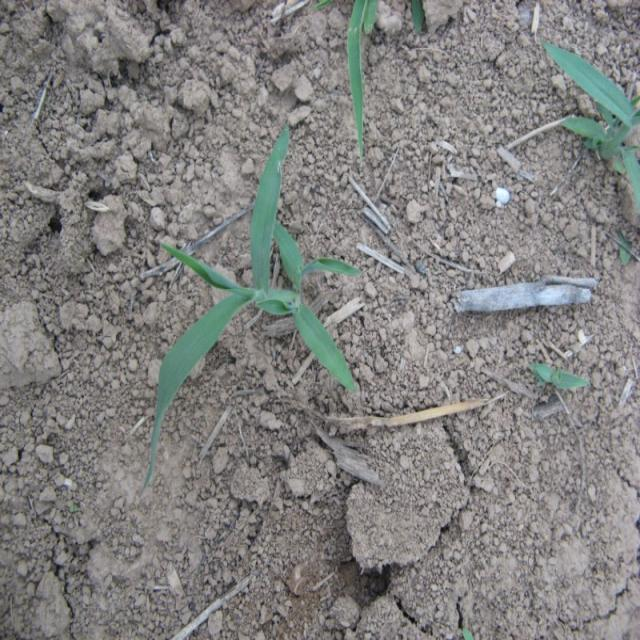bg: (150, 128, 364, 474)
